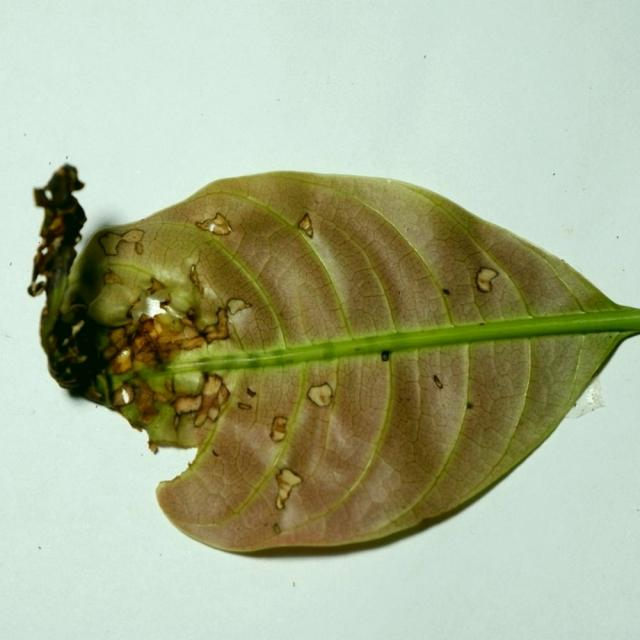Anthracnose: (178, 374, 228, 428), (206, 296, 253, 340), (92, 283, 141, 322), (564, 379, 604, 420), (128, 291, 174, 324), (273, 467, 304, 511), (45, 167, 79, 207), (100, 229, 144, 257), (300, 383, 337, 413), (130, 327, 158, 361), (133, 382, 158, 418), (198, 212, 233, 236), (171, 371, 203, 395), (110, 382, 136, 408), (475, 266, 499, 293), (109, 348, 133, 375), (236, 385, 258, 413), (194, 306, 219, 330), (173, 394, 202, 414), (269, 414, 289, 442), (201, 373, 223, 398), (148, 287, 174, 308), (225, 297, 252, 317), (296, 212, 314, 238), (179, 336, 206, 351), (121, 229, 145, 243), (28, 279, 46, 297), (33, 187, 51, 205), (180, 314, 198, 332), (181, 324, 199, 340), (149, 277, 166, 293), (103, 271, 122, 285), (71, 320, 85, 337), (189, 264, 199, 287), (68, 303, 87, 315), (102, 346, 118, 360), (153, 392, 170, 405), (164, 376, 175, 395), (156, 480, 171, 493), (116, 347, 130, 360), (275, 496, 286, 510), (246, 386, 257, 398), (433, 376, 443, 389), (148, 442, 158, 455), (380, 350, 390, 362), (173, 414, 180, 430), (273, 523, 281, 534), (442, 288, 451, 296), (466, 402, 473, 410), (212, 449, 219, 456), (187, 460, 194, 467)
Mango: (30, 168, 639, 560)
